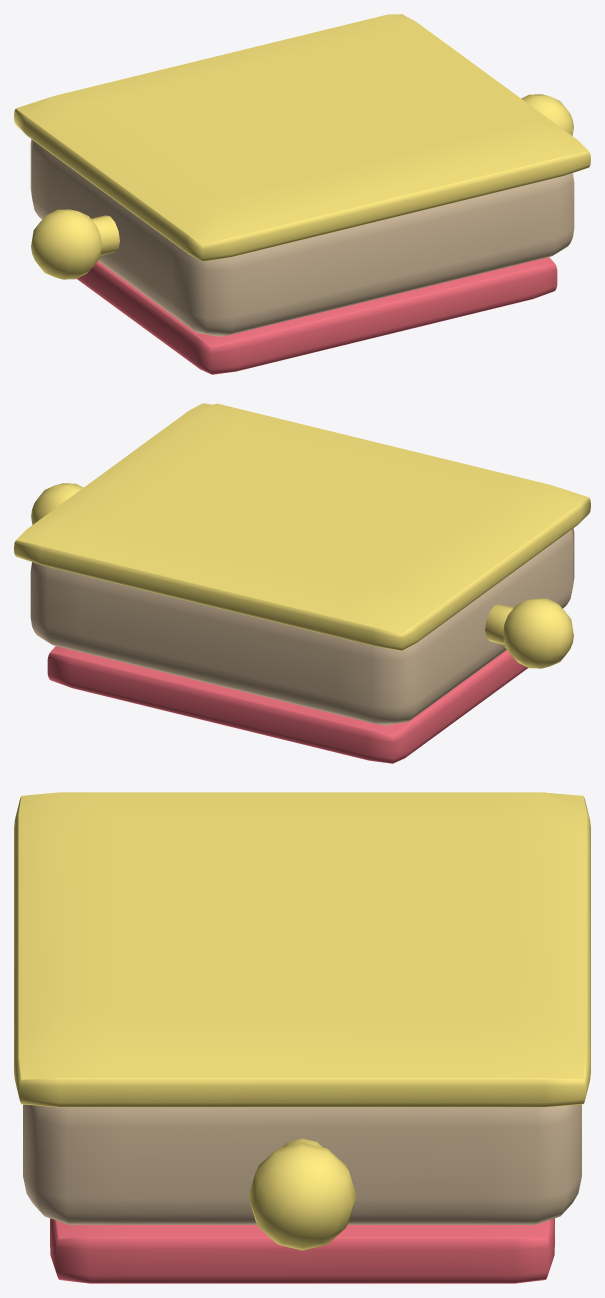
File: StampOutRider.glb
3 renders of one model, top to bottom at view 1: azimuth 30°, elevation 25°; view 2: azimuth 150°, elevation 25°; view 3: azimuth 270°, elevation 25°, orthographic. The views are drawn at different scales.
Visible parts, largest first — view 1: Band, Block, Rubber; view 2: Band, Block, Rubber; view 3: Band, Block, Rubber.
Part boxes in pixels (box(x1,y1,x2,y2)): Band: box(14, 14, 590, 279); Block: box(30, 139, 574, 336); Rubber: box(77, 257, 557, 374); Band: box(14, 403, 590, 668); Block: box(30, 528, 574, 725); Rubber: box(47, 646, 527, 763); Band: box(14, 792, 590, 1250); Block: box(23, 1104, 581, 1224); Rubber: box(50, 1218, 554, 1283).
Size of the model in its own units: 5.14 by 1.52 by 3.2.
